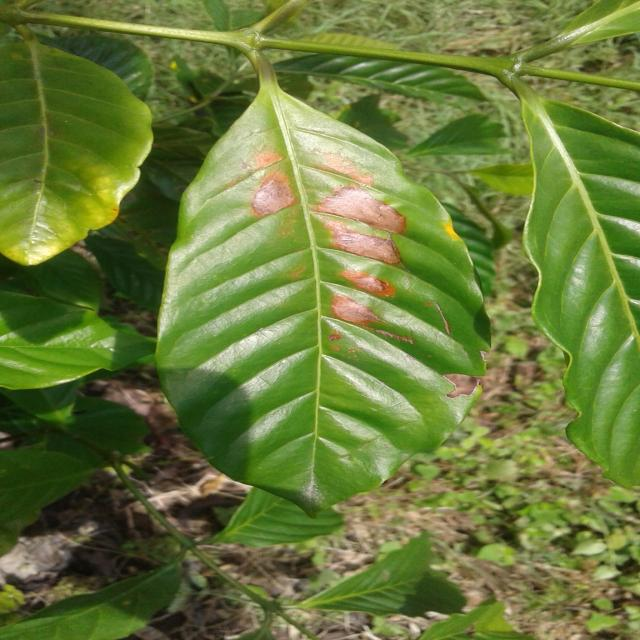Plaga-AranaRoja: (154, 58, 490, 518)
